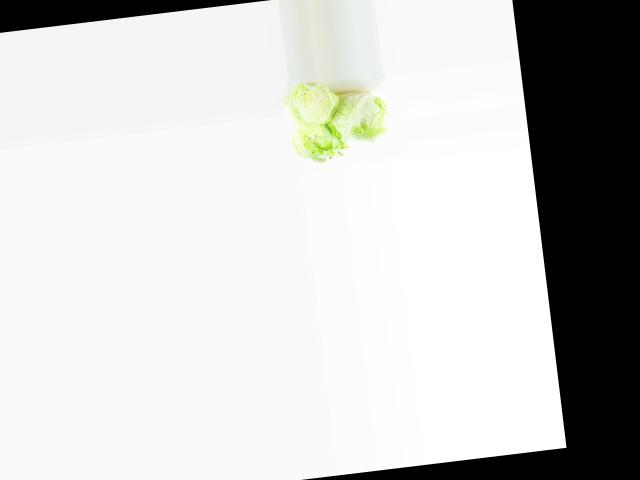lettuce: (287, 115, 353, 170)
